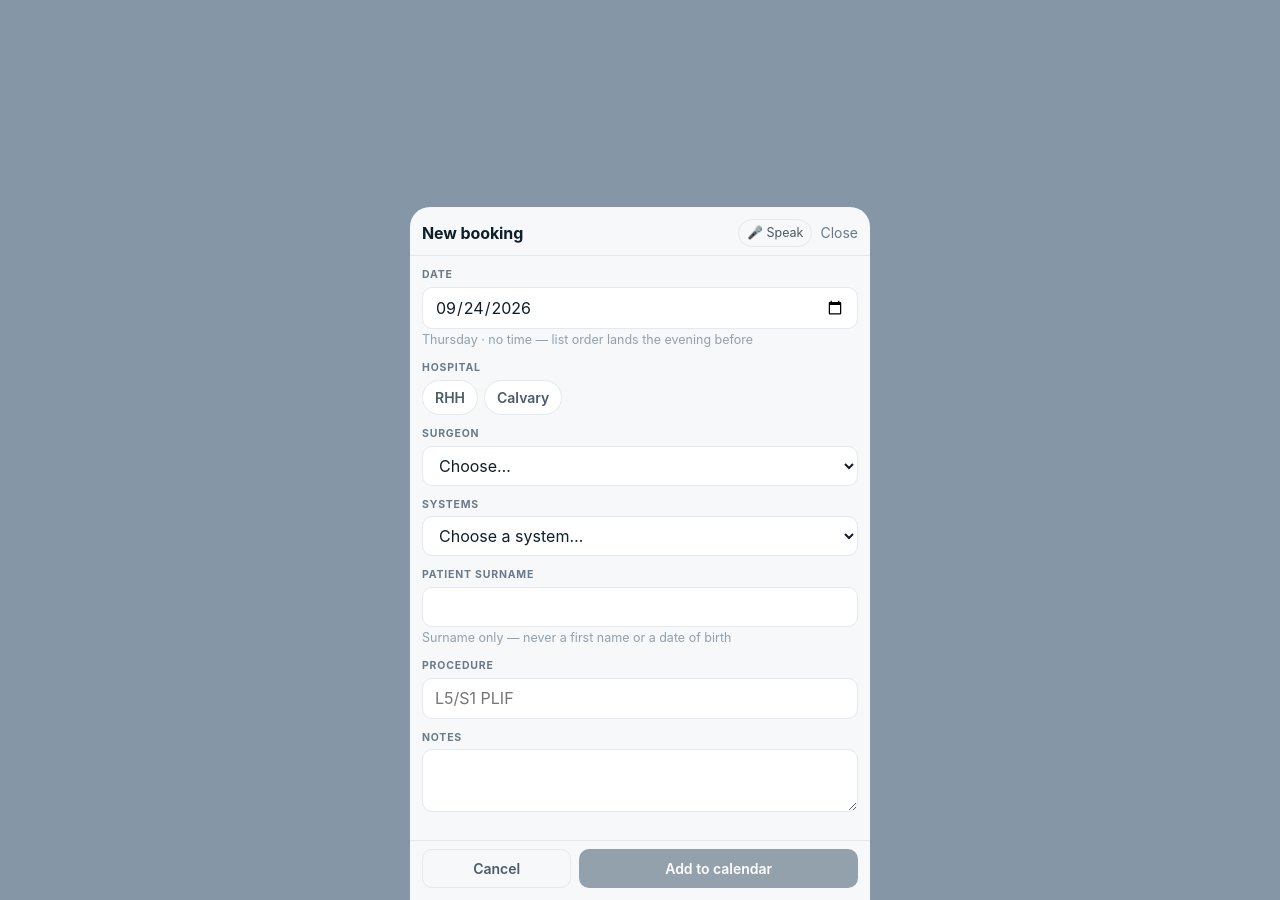
Scenario: a case needing two systems › takes both, each with its own supply
Step 1. Click the button "Calvary" → point(523, 397), box [484, 380, 562, 415]
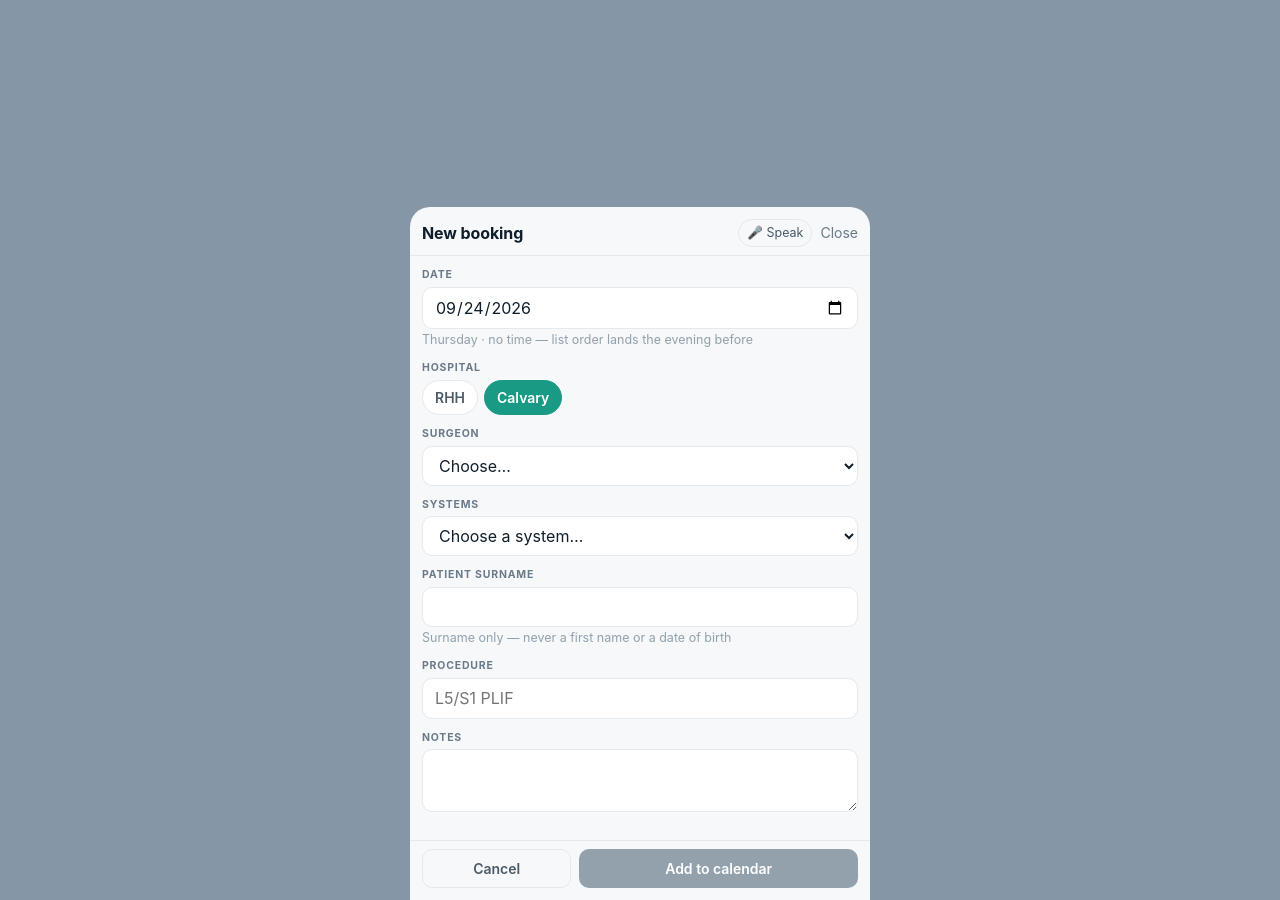
Step 2. Select "Diplomat" in the dropdown named "Add a system" → point(640, 536), box [422, 516, 858, 556]
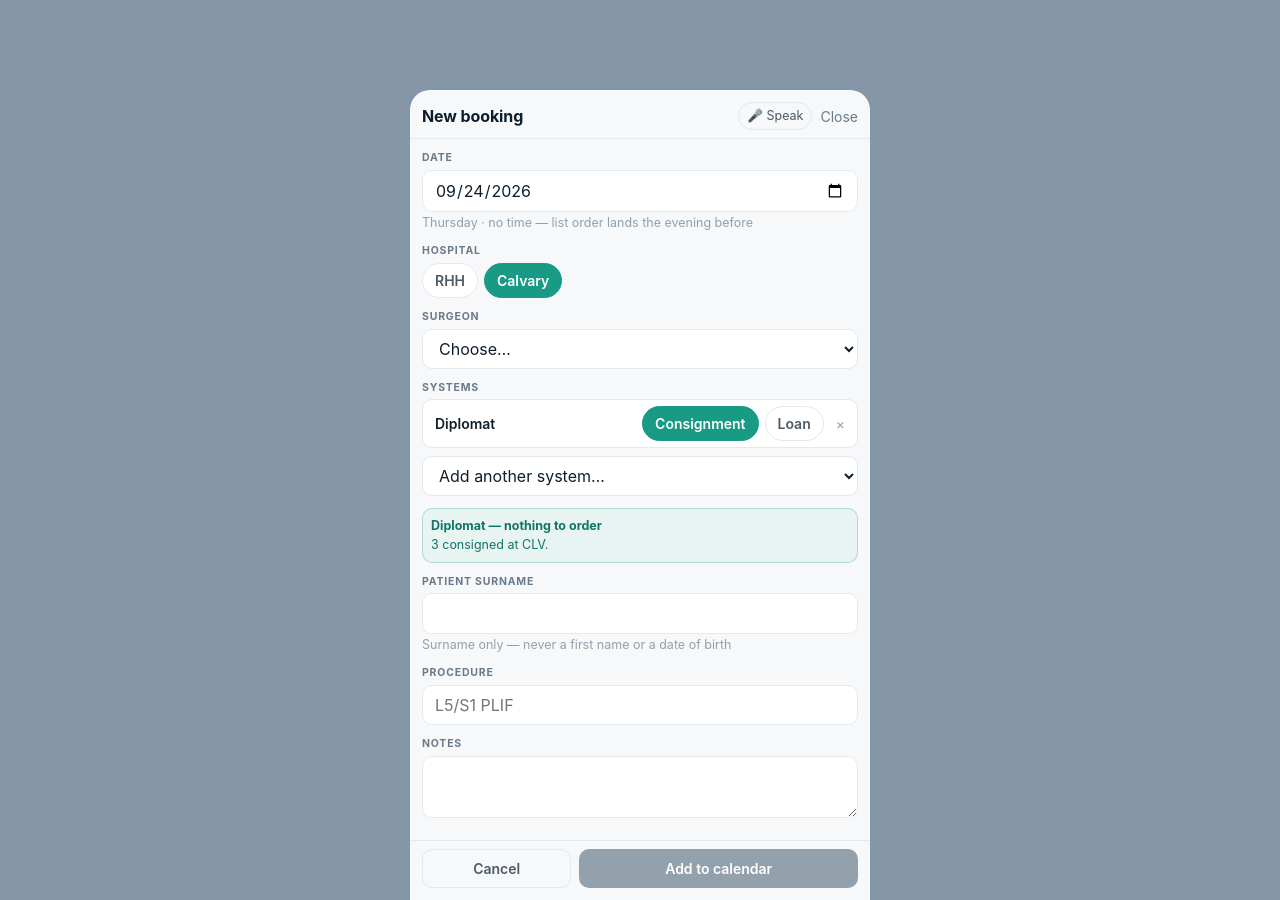
Step 3. Select "Global BMD PLIF" in the dropdown named "Add a system" → point(640, 476), box [422, 456, 858, 496]
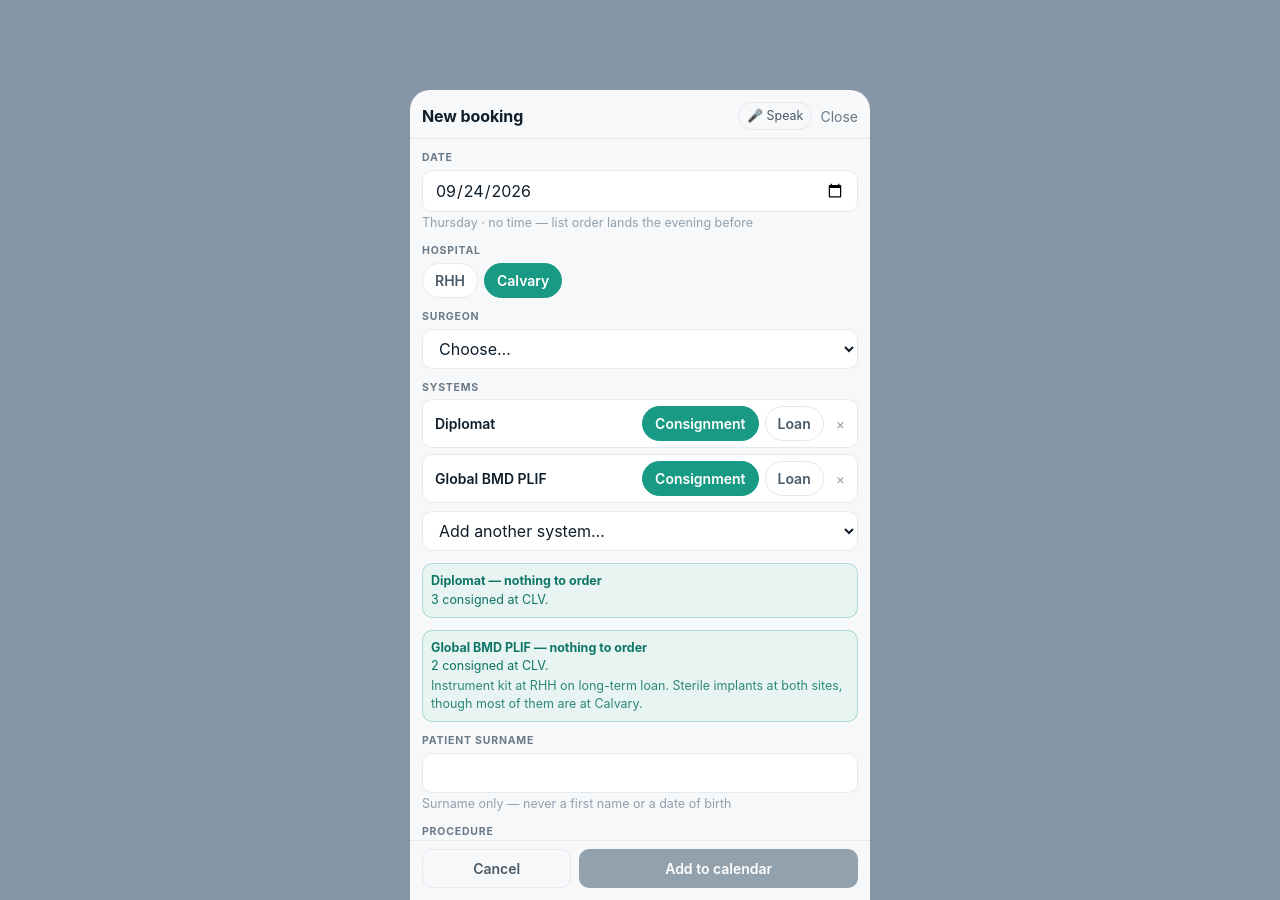
Expected: the text "Diplomat" is shown, [435, 415, 495, 432]
Expected: the text "Global BMD PLIF" is shown, [435, 470, 547, 487]
